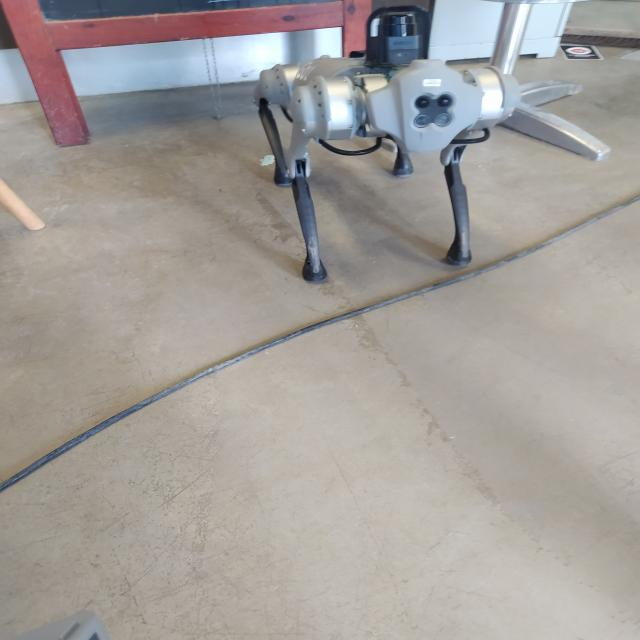unitree-go1-robot: (240, 0, 515, 305)
